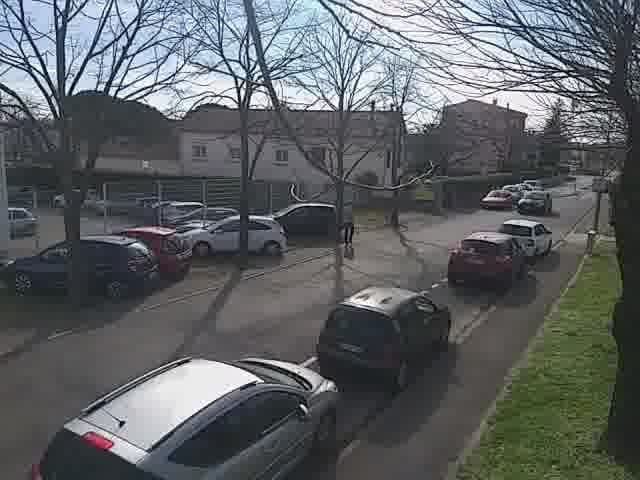persona: (338, 195, 359, 249)
